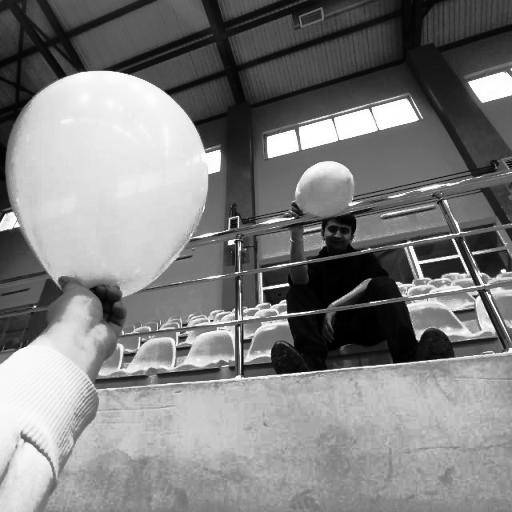balloon: (4, 69, 210, 300), (294, 162, 356, 220)
